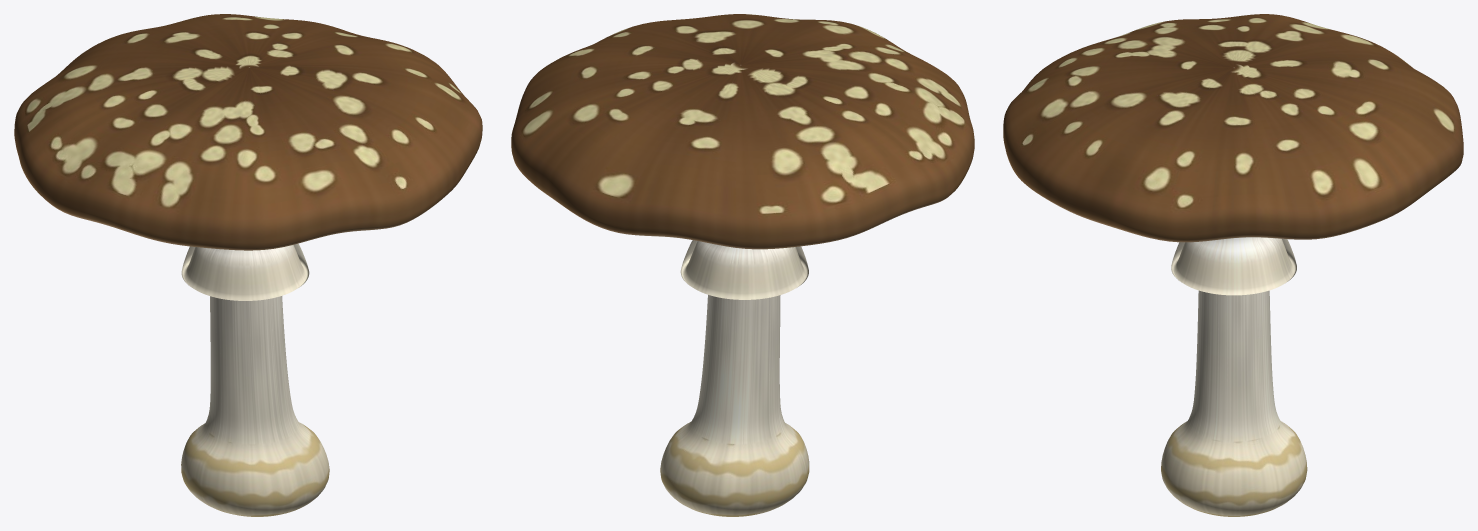
File: amanita-regalis-drawn.glb
3 views of the same model, side by side, from view 1: azimuth 30°, elevation 25°; view 2: azimuth 150°, elevation 25°; view 3: azimuth 270°, elevation 25° (orthographic).
Size of the model in its own units: 0.8971 by 0.92 by 0.8962.
Materials: 1 (1 with a texture image).
